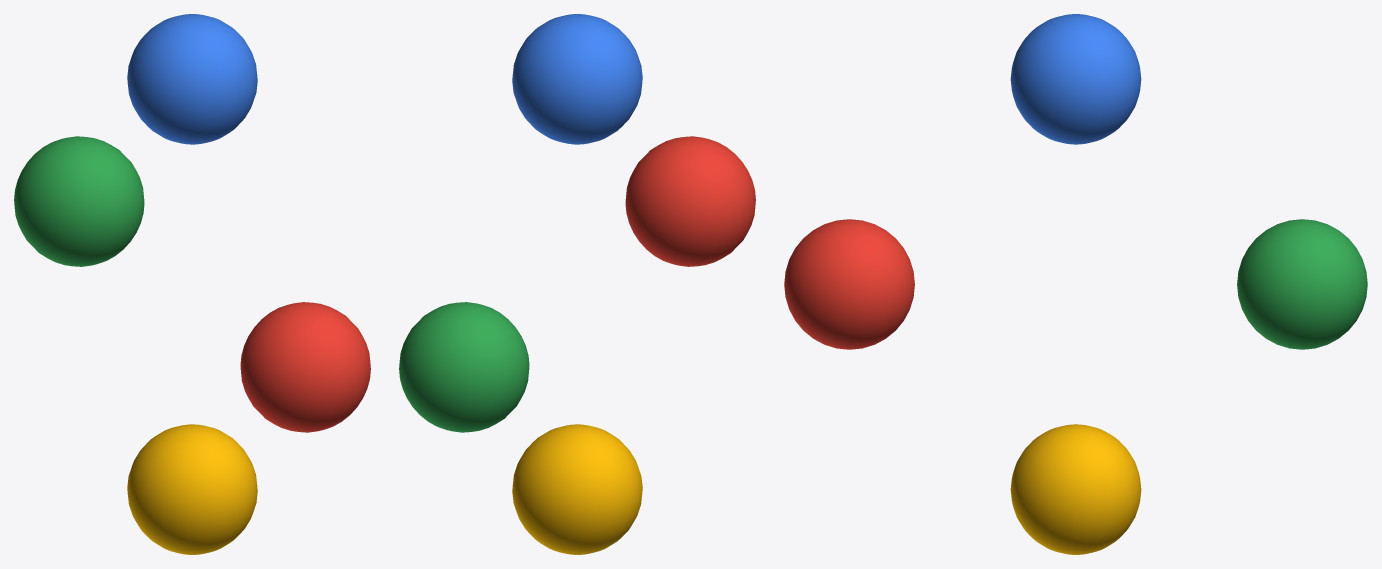
File: Balls.glb
3 views of the same model, side by side, from view 1: azimuth 30°, elevation 25°; view 2: azimuth 150°, elevation 25°; view 3: azimuth 270°, elevation 25° (orthographic).
Visible parts, largest first — view 1: Sphere, Sphere.002, Sphere.001, Sphere.003; view 2: Sphere, Sphere.002, Sphere.001, Sphere.003; view 3: Sphere, Sphere.002, Sphere.001, Sphere.003.
Boxes of the visible parts, left/top/right/bottom form: Sphere: left=127, top=14, right=257, bottom=144; Sphere.002: left=127, top=424, right=257, bottom=554; Sphere.001: left=14, top=136, right=144, bottom=266; Sphere.003: left=240, top=302, right=370, bottom=432; Sphere: left=512, top=14, right=642, bottom=144; Sphere.002: left=512, top=424, right=642, bottom=554; Sphere.001: left=399, top=302, right=529, bottom=432; Sphere.003: left=625, top=136, right=755, bottom=266; Sphere: left=1010, top=14, right=1141, bottom=144; Sphere.002: left=1010, top=424, right=1141, bottom=554; Sphere.001: left=1237, top=219, right=1367, bottom=349; Sphere.003: left=784, top=219, right=914, bottom=349.
Bounding box in the file's own units: 2 × 8.93 × 8.93.
